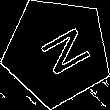N_SW: (25, 22, 89, 82)
